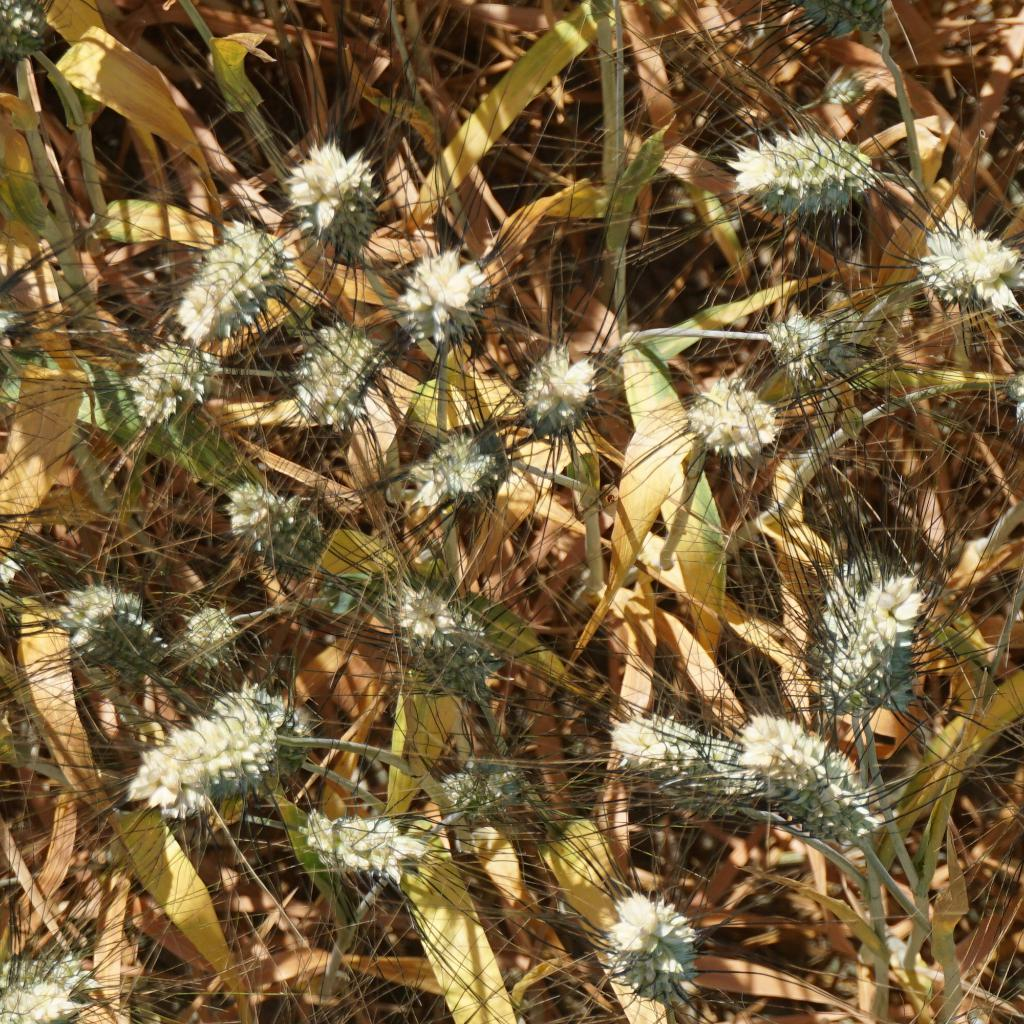0-0: (723, 120, 883, 233), (133, 702, 275, 815), (164, 218, 294, 335), (309, 798, 431, 909), (601, 880, 704, 994), (909, 211, 1024, 310), (271, 133, 391, 226), (112, 335, 212, 445), (388, 582, 489, 690), (509, 340, 616, 440), (738, 770, 880, 845), (753, 310, 879, 393), (842, 575, 924, 697), (395, 241, 497, 327), (740, 709, 856, 783), (689, 378, 778, 469), (300, 315, 368, 424), (817, 556, 872, 686), (413, 429, 509, 499), (604, 713, 718, 770), (237, 685, 311, 765), (437, 754, 513, 824), (270, 496, 331, 575), (0, 947, 92, 998), (222, 472, 286, 543), (178, 602, 237, 673), (51, 582, 143, 626), (83, 620, 145, 685), (821, 0, 904, 46), (0, 977, 77, 1024), (0, 0, 41, 60), (819, 73, 879, 110), (0, 544, 42, 592), (1007, 350, 1024, 457), (0, 275, 13, 363)
